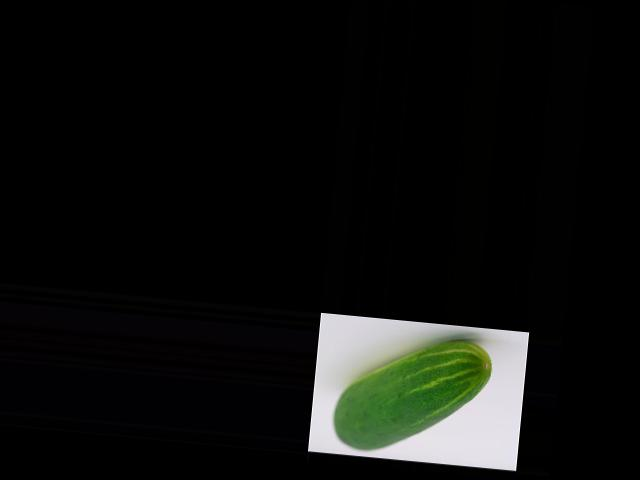cucumber: (330, 329, 493, 461)
